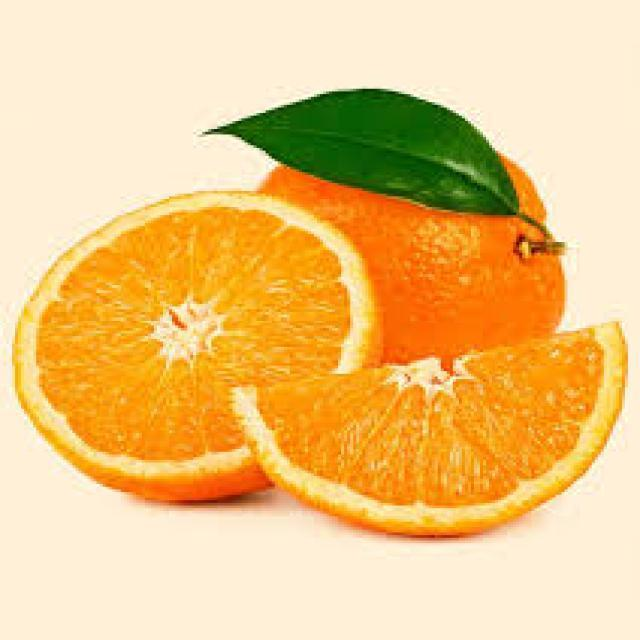non-mango: (11, 188, 382, 502), (230, 318, 628, 537), (256, 150, 566, 367)
